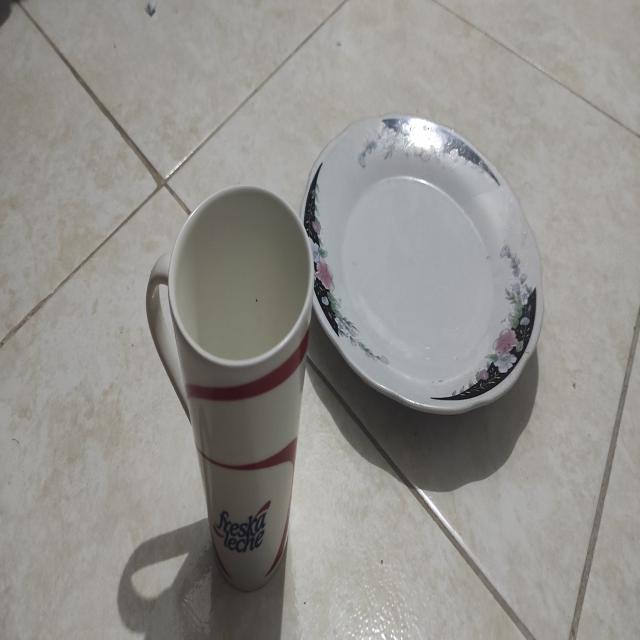non-organic waste: (297, 121, 546, 437)
